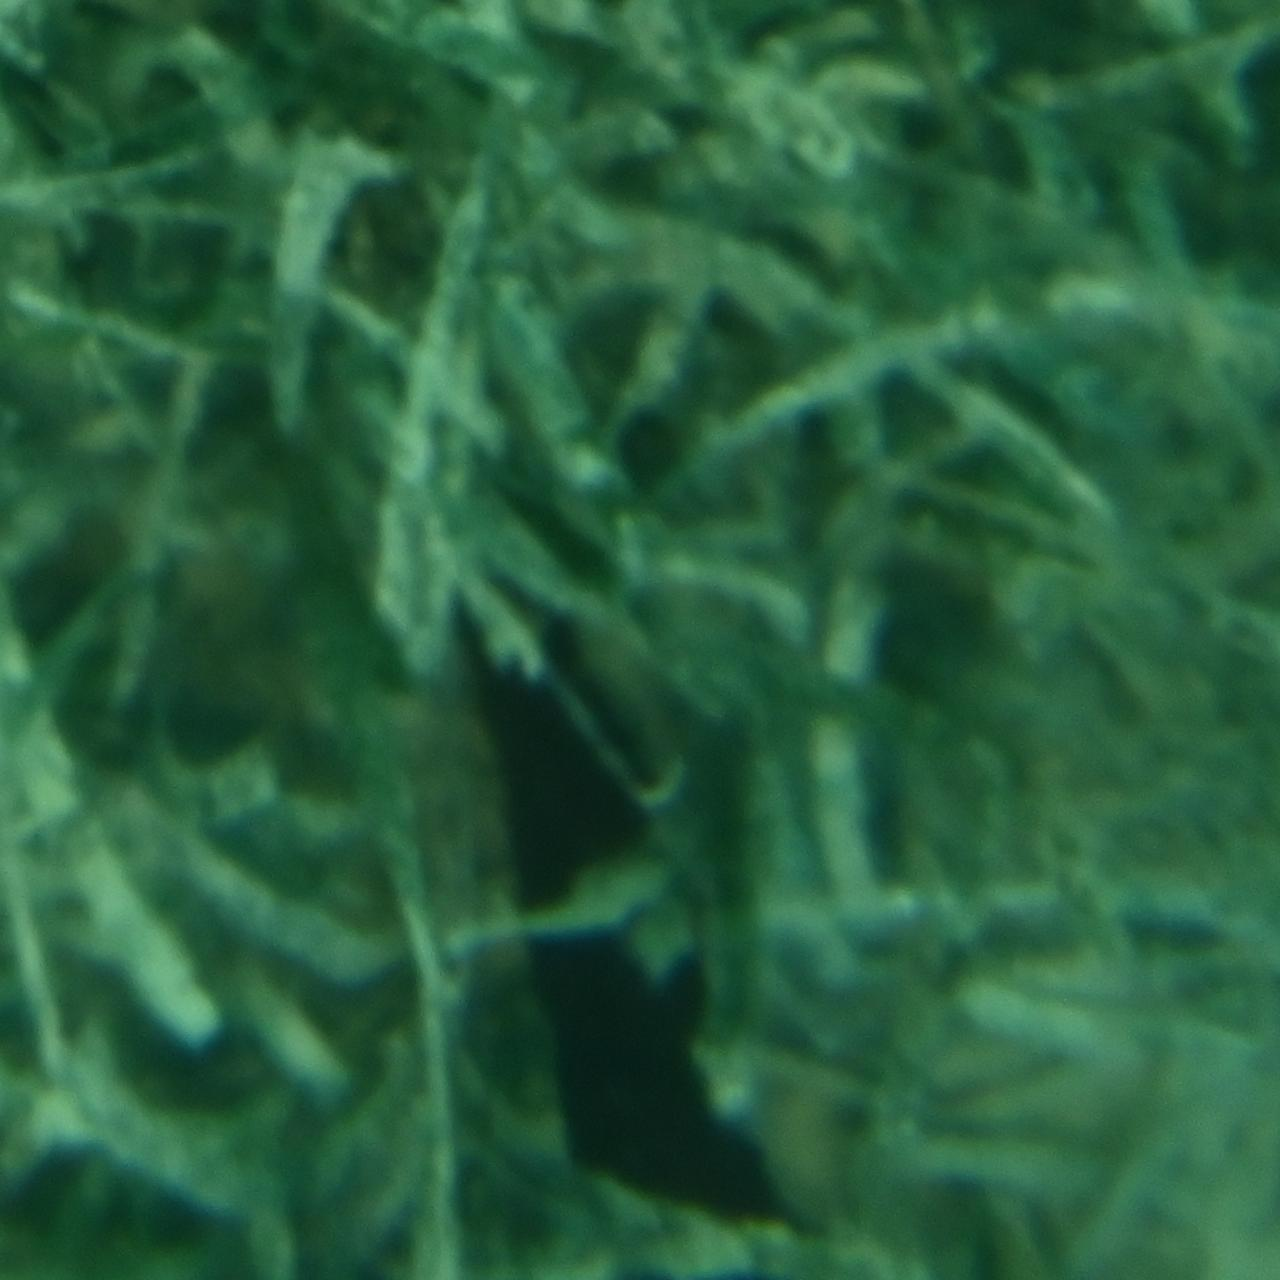Holothuria tubulosa: (458, 600, 822, 1280)
